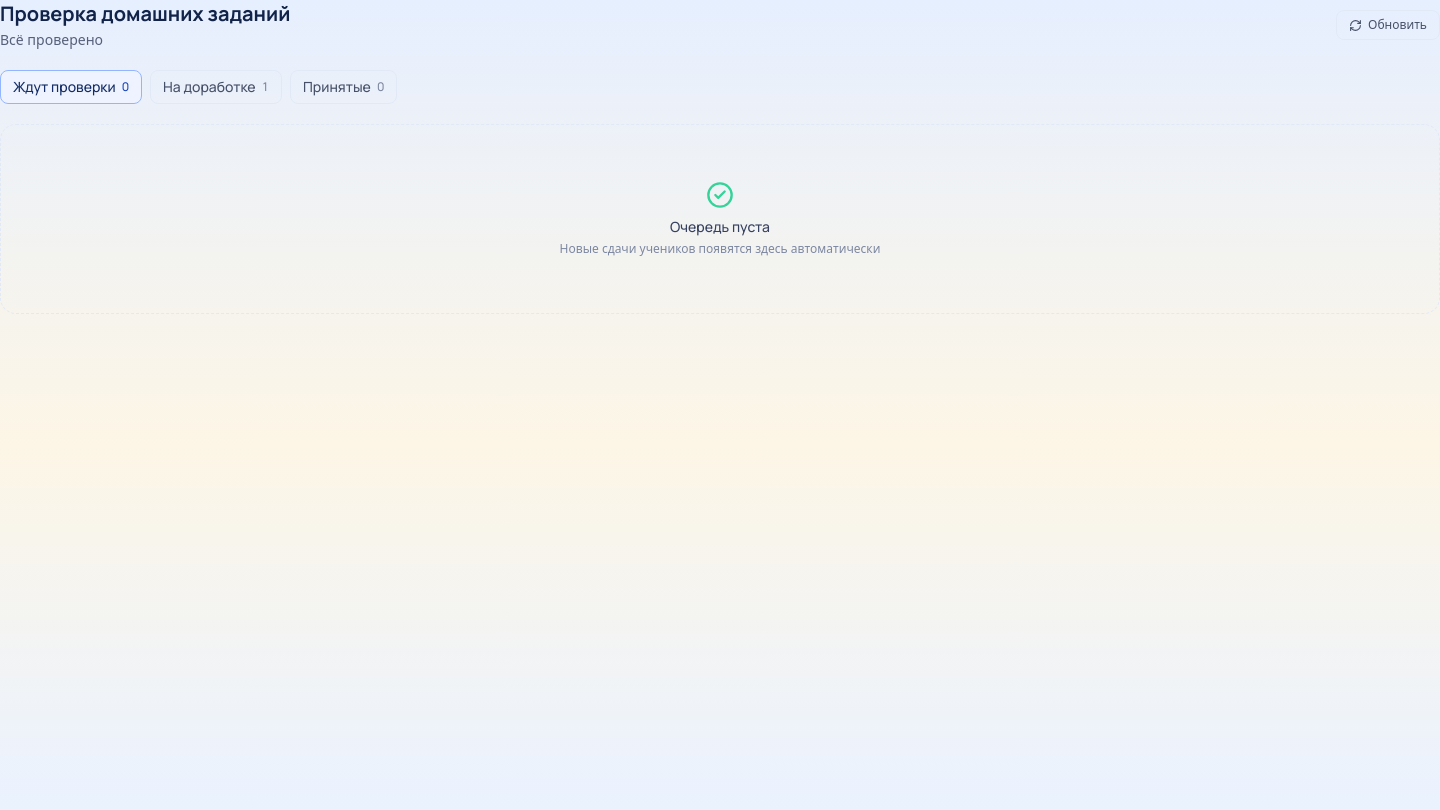
Scenario: HomeworkReviewQueuePage — принять работу с доработки › над формой сказано, что работу вернули и можно принять как есть
Click the tab with test id "queue-tab-returned_for_revision" at (216, 87), box [150, 70, 282, 104]
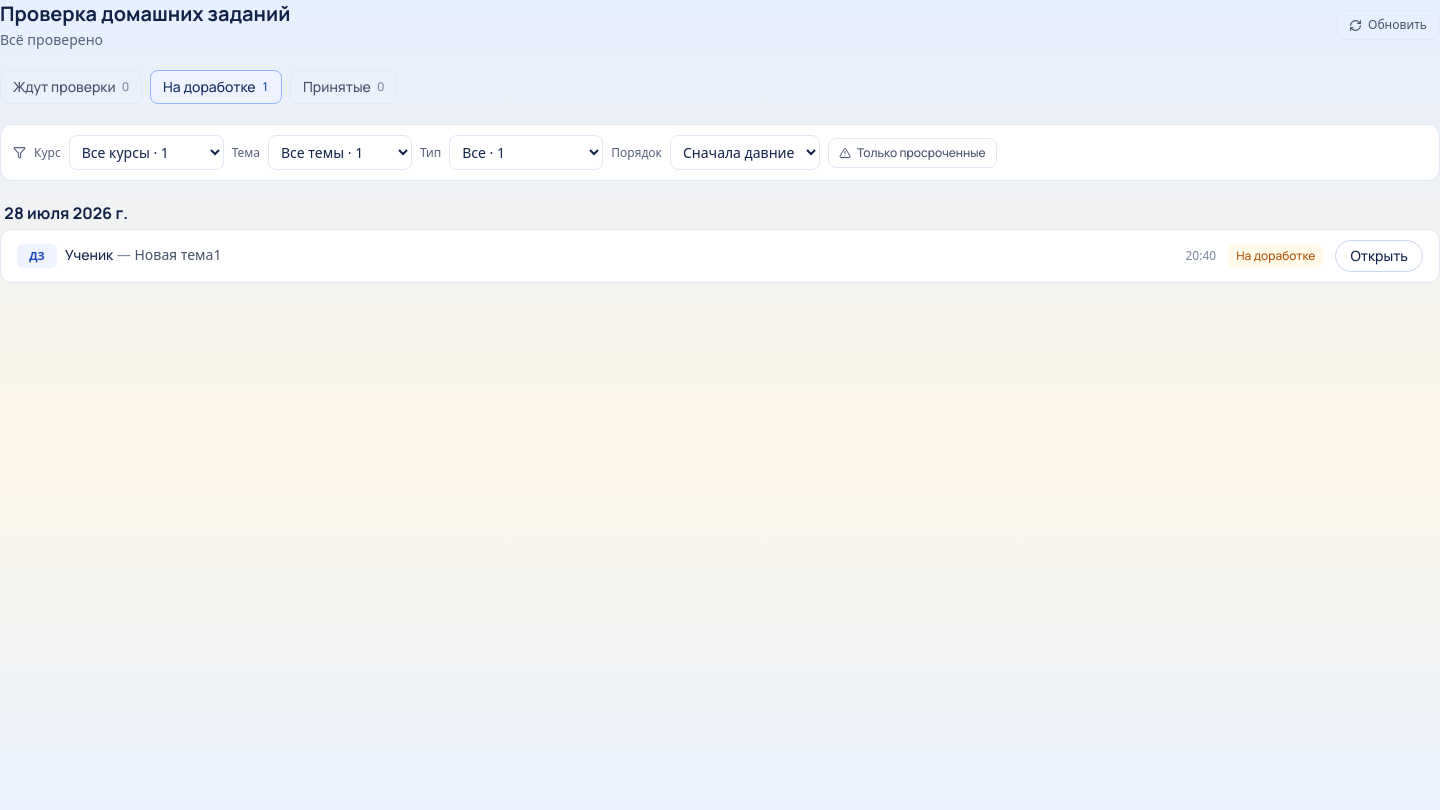
Click the button "Открыть" at (1379, 256), box [1335, 240, 1423, 272]
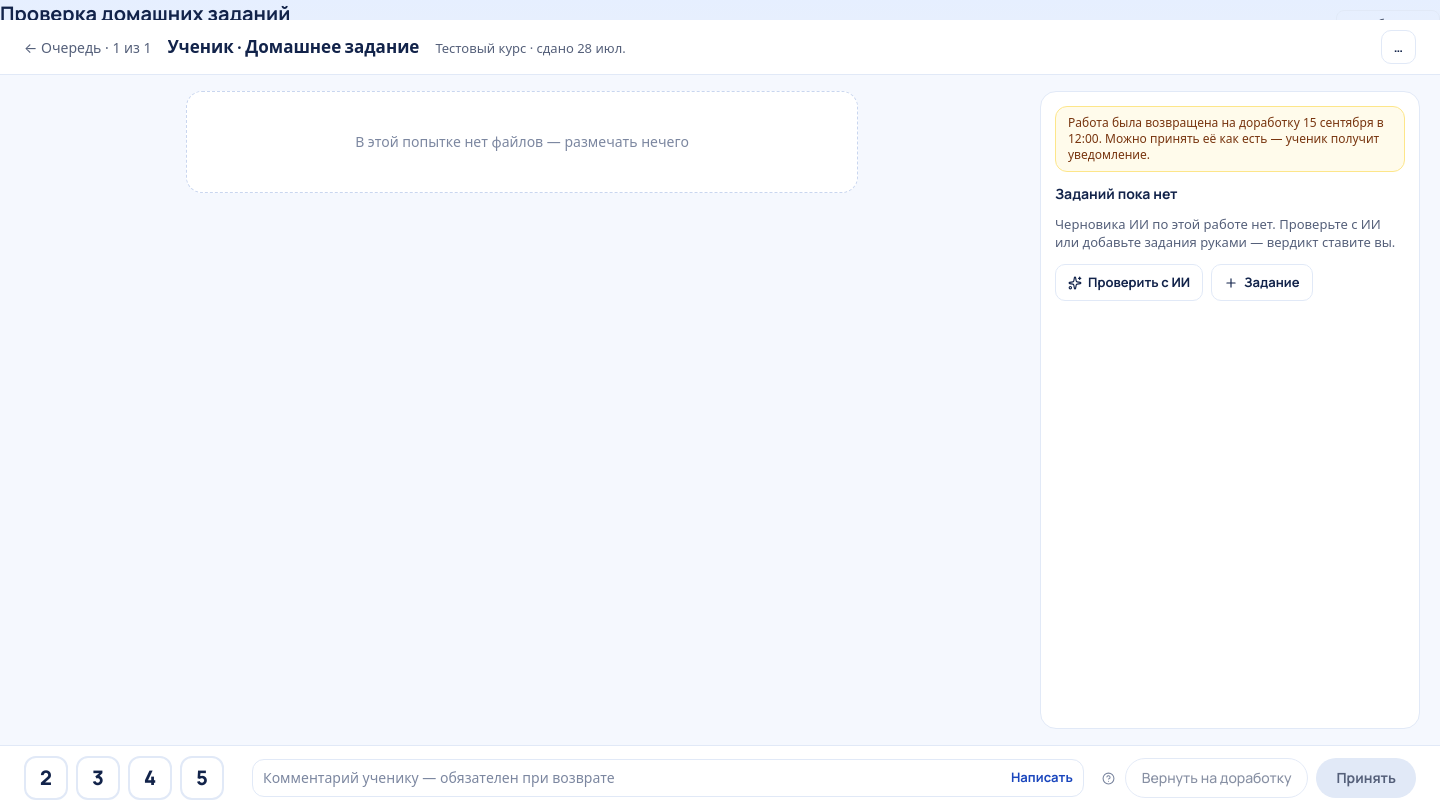
Expected: the text with test id "queue-returned-notice" shows "возвращена на доработку", [1068, 114, 1384, 147]
Expected: the text with test id "queue-returned-notice" shows "принять её как есть", [1068, 130, 1379, 163]
Expected: the text with test id "queue-returned-notice" shows "получит уведомление", [1068, 130, 1379, 163]
